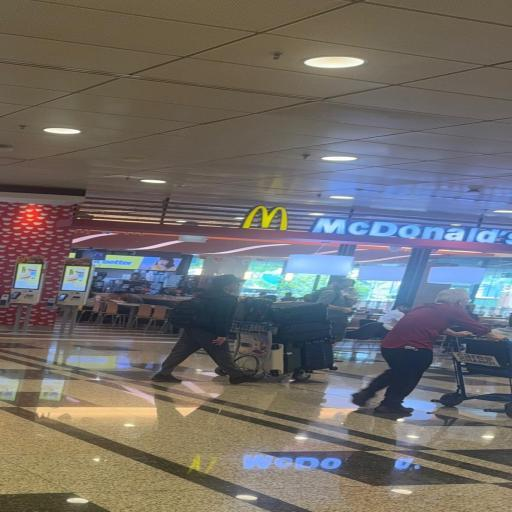person_with_luggage_right: (102, 272, 344, 390), (352, 288, 506, 415)
